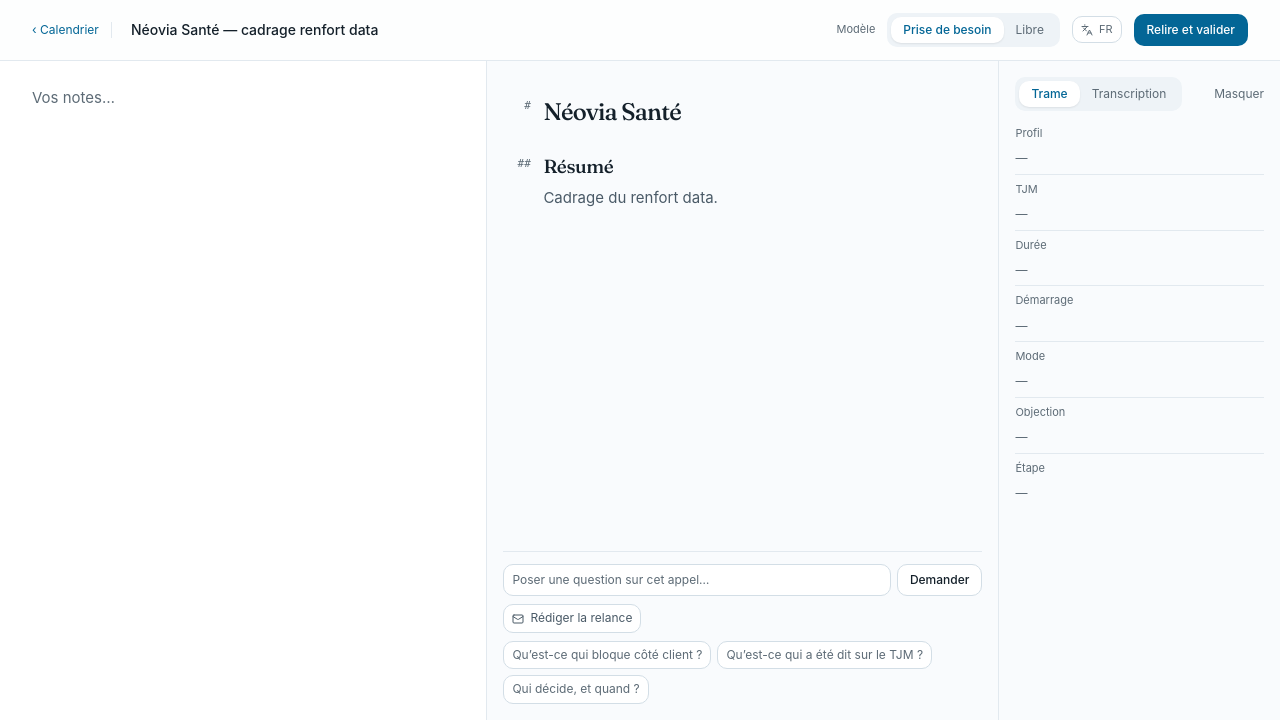
pressing it is a read, like everything else here › it asks the declared question and shows it above the answer
Click the button "Rédiger la relance" at coordinates (572, 618), box top-left (503, 604), bottom-right (641, 633)
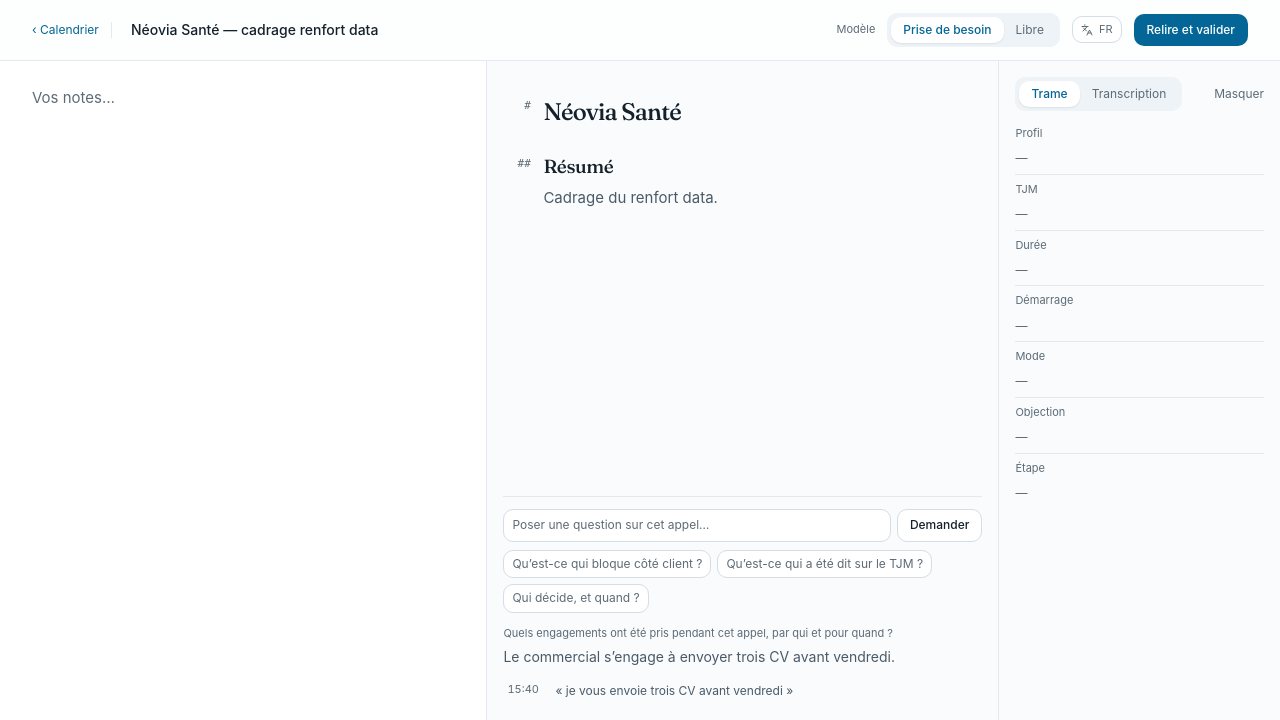
Expected: the text "Quels engagements ont été pris pendant cet appel, par qui et pour quand ?" is shown, top-left (503, 625), bottom-right (906, 642)
Expected: the text "Le commercial s’engage à envoyer trois CV avant vendredi." is shown, top-left (503, 648), bottom-right (895, 665)
Expected: the text "« je vous envoie trois CV avant vendredi »" is shown, top-left (555, 682), bottom-right (793, 698)
